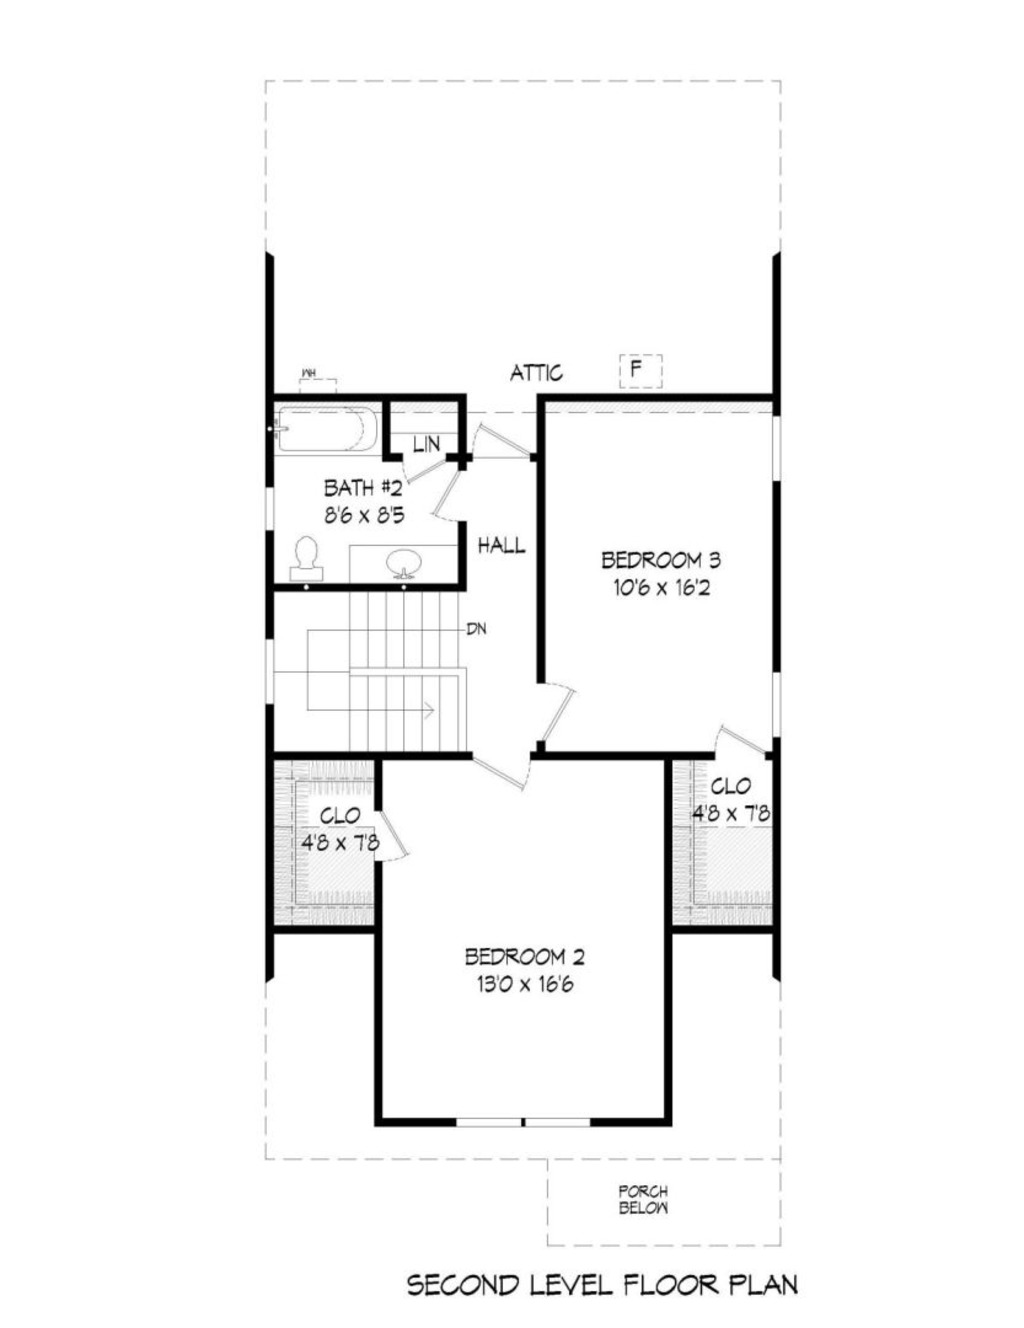door: (427, 468, 502, 544), (459, 415, 539, 472), (517, 685, 580, 754), (366, 803, 415, 870), (472, 740, 534, 791), (706, 722, 778, 762), (398, 444, 445, 485)
large_sink: (274, 522, 327, 589)
small_sink: (337, 530, 474, 589)
stairs: (270, 595, 478, 754)
tub: (272, 401, 398, 460)
window: (759, 666, 819, 742), (464, 1105, 608, 1132), (764, 403, 788, 492)
